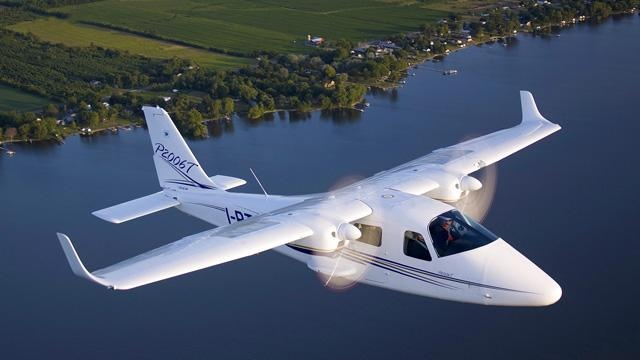airplane: (54, 88, 580, 309)
